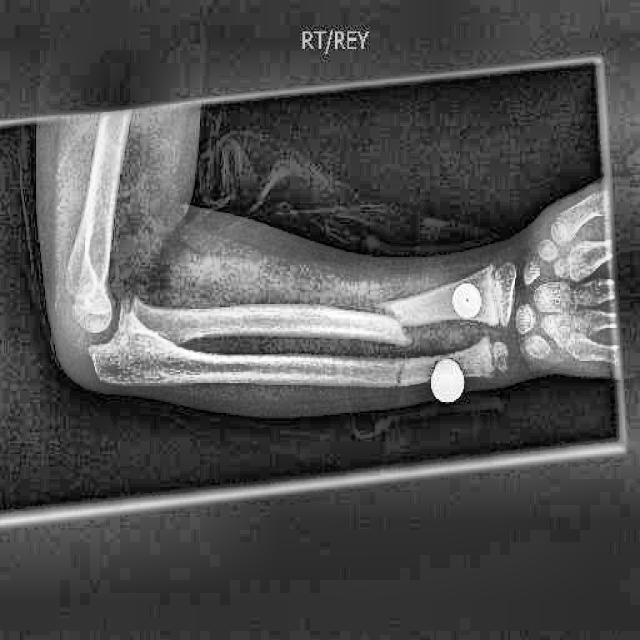forearm fracture: (332, 273, 438, 367), (371, 346, 441, 413)
